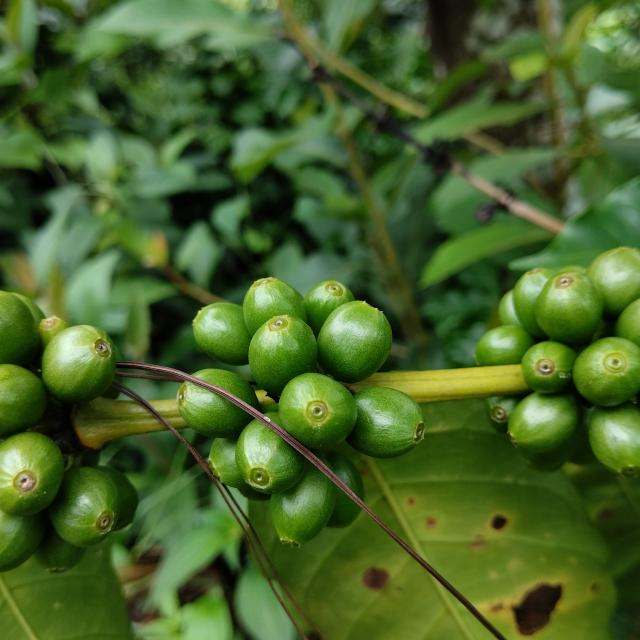green: (317, 301, 392, 383), (279, 373, 358, 449), (41, 325, 115, 404), (346, 387, 426, 459), (48, 468, 120, 548), (248, 315, 317, 396), (270, 465, 336, 547), (0, 432, 63, 517), (235, 420, 307, 494), (536, 272, 604, 345), (574, 337, 640, 407), (509, 393, 582, 453), (177, 382, 253, 438), (192, 302, 252, 366), (242, 277, 307, 336), (590, 402, 640, 477), (588, 246, 640, 316), (0, 365, 46, 438), (514, 268, 557, 339), (304, 280, 355, 338), (0, 291, 39, 366), (522, 341, 577, 394), (0, 510, 45, 573), (96, 466, 138, 532), (193, 369, 259, 409), (475, 325, 535, 366), (34, 529, 86, 574), (207, 439, 250, 489), (325, 452, 365, 501), (327, 489, 361, 528), (10, 292, 45, 326), (617, 298, 640, 347), (38, 316, 69, 350), (499, 290, 523, 327)
